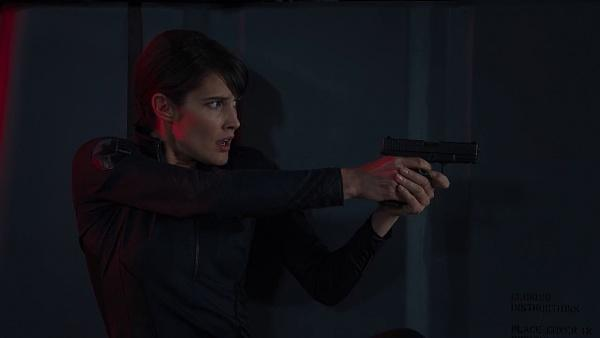Gun: (380, 135, 484, 172)
